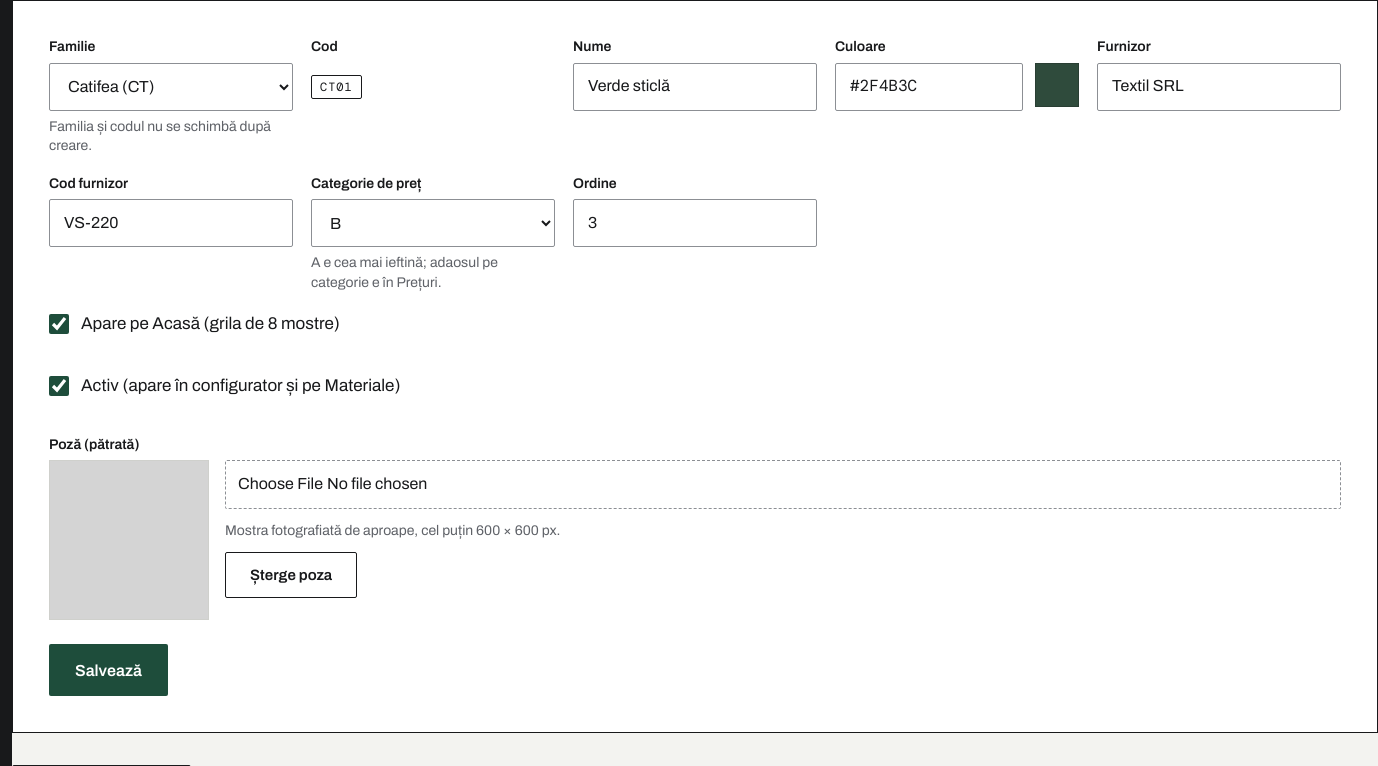
Scenario: MaterialForm for a new material › marks the active checkbox when the server refuses the last colour
Click the button "Salvează": {"x": 108, "y": 670} [49,644,168,696]
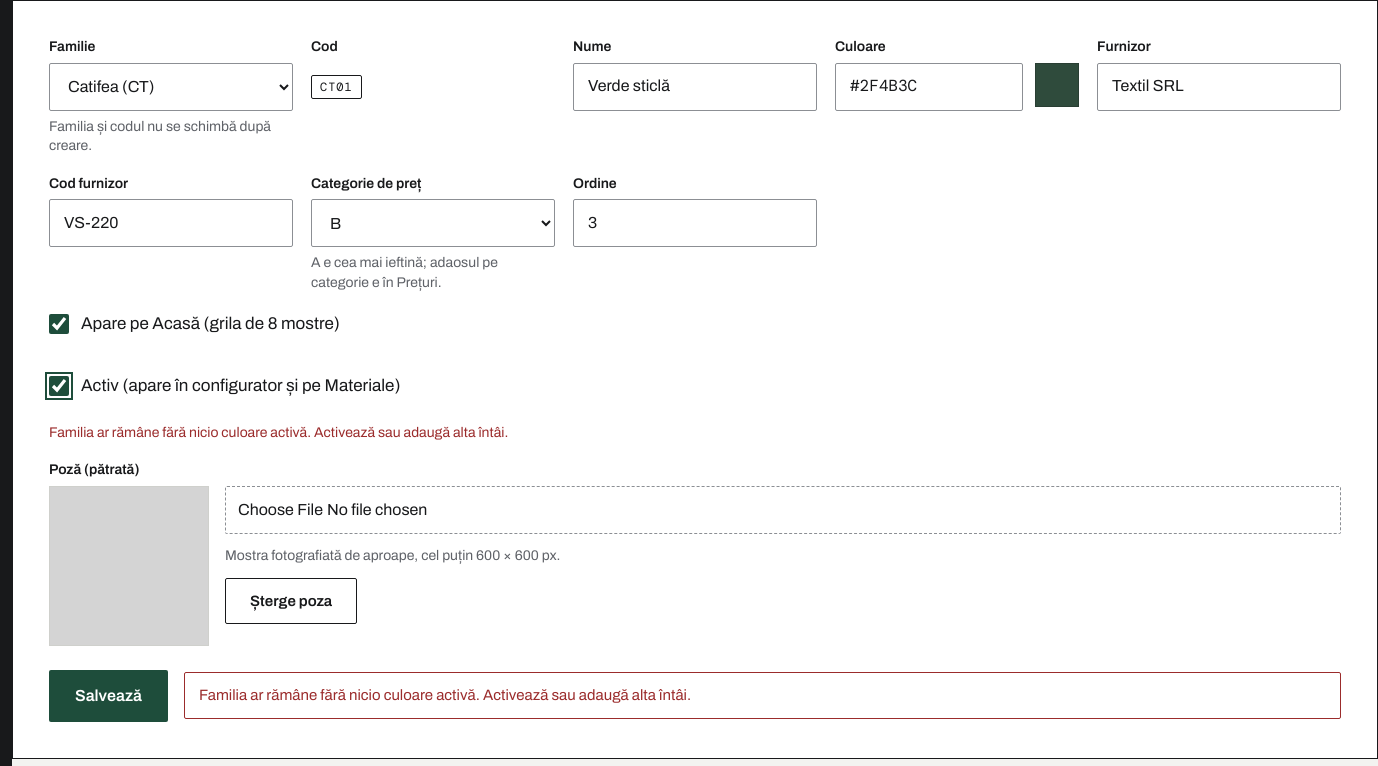
Result: the message reads "Familia ar rămâne fără nicio culoare activă. Activează sau adaugă alta întâi." at [199,687,691,703]
